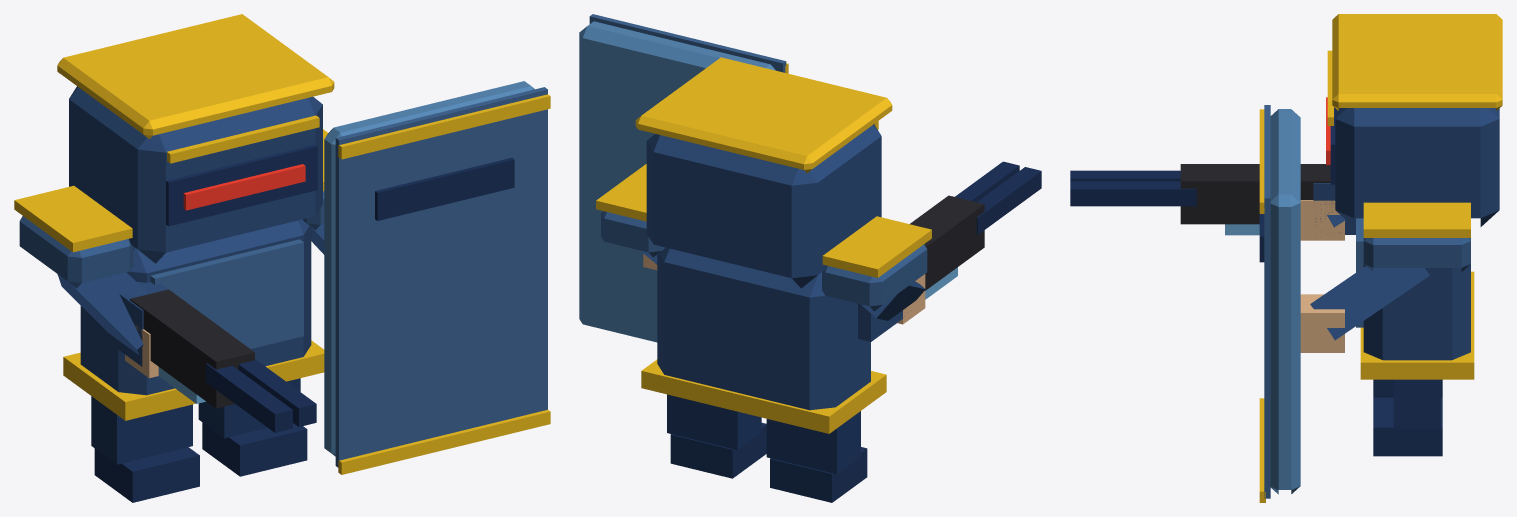
File: breacher_r2.glb
3 renders of one model, left to right at view 1: azimuth 30°, elevation 25°; view 2: azimuth 150°, elevation 25°; view 3: azimuth 270°, elevation 25°, orthographic. The views are drawn at different scales.
Parts seen in each view (by area): view 1: breacher_r2_mesh; view 2: breacher_r2_mesh; view 3: breacher_r2_mesh.
Boxes of the visible parts, x1,y1,x2,y2 form: breacher_r2_mesh: (14, 14, 550, 502); breacher_r2_mesh: (579, 14, 1041, 502); breacher_r2_mesh: (1070, 14, 1502, 502).
Bounding box in the file's own units: 2.22 × 2 × 2.16.
Materials: 1 (1 with a texture image).
